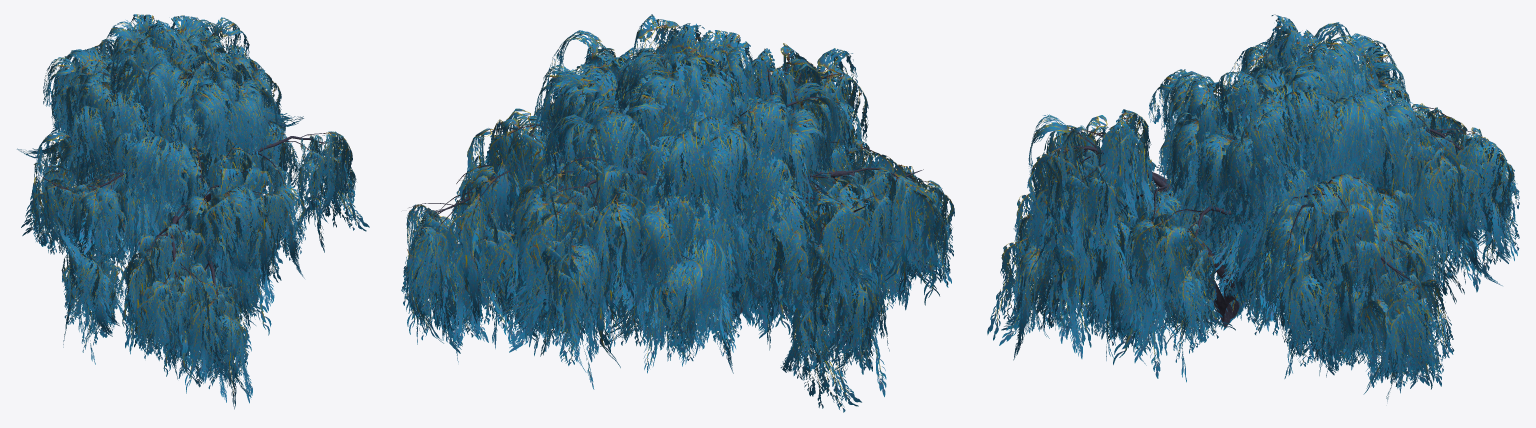
The picture shows the model from 3 angles, left to right: view 1: azimuth 30°, elevation 25°; view 2: azimuth 150°, elevation 25°; view 3: azimuth 270°, elevation 25°; orthographic projection. The views are drawn at different scales.
Parts seen in each view (by area): view 1: SM_Willow_01_Canopy_LOD0; view 2: SM_Willow_01_Canopy_LOD0; view 3: SM_Willow_01_Canopy_LOD0.
Boxes of the visible parts, left/top/right/bottom form: SM_Willow_01_Canopy_LOD0: left=17, top=14, right=369, bottom=409; SM_Willow_01_Canopy_LOD0: left=401, top=14, right=954, bottom=412; SM_Willow_01_Canopy_LOD0: left=987, top=14, right=1519, bottom=401.
Size of the model in its own units: 16.15 by 14.63 by 19.93.
Materials: 1 (1 with a texture image).
